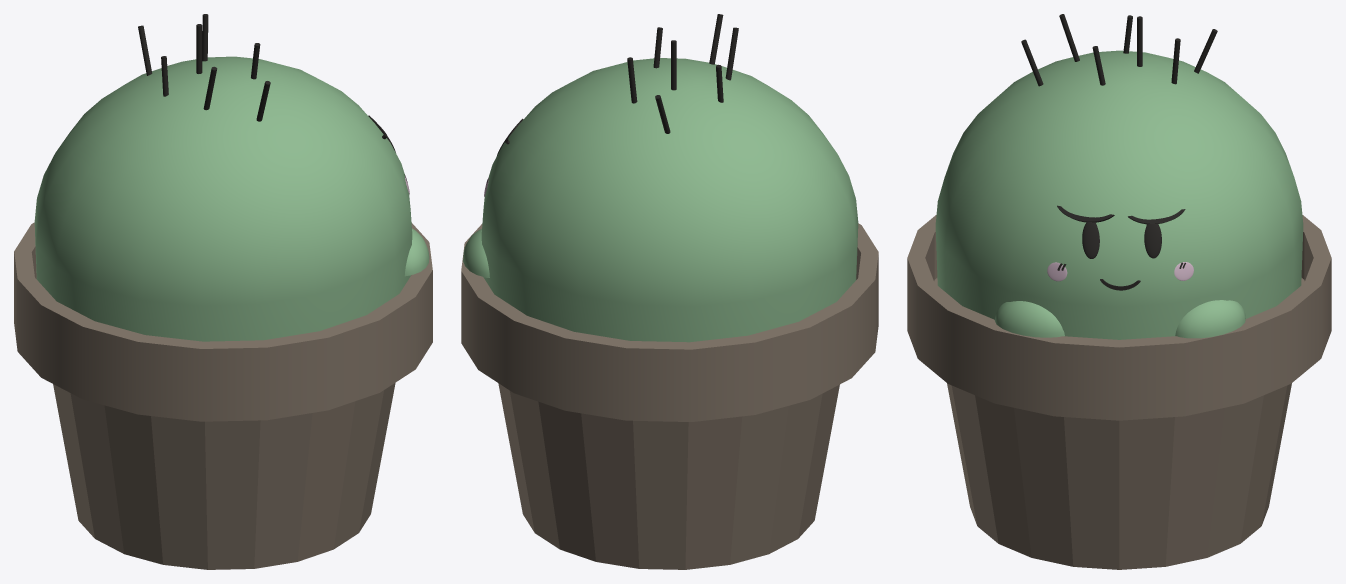
Rendered from gutitubo.fbx.
3 views of the same model, side by side, from view 1: azimuth 30°, elevation 25°; view 2: azimuth 150°, elevation 25°; view 3: azimuth 270°, elevation 25° (orthographic).
Parts seen in each view (by area): view 1: gutitubo_body, gutitubo_planter, gutitubo_hair; view 2: gutitubo_body, gutitubo_planter, gutitubo_hair; view 3: gutitubo_body, gutitubo_planter, gutitubo_hair, gutitubo_face, gutitubo_cheeks.
Part boxes in pixels (left/top/right/bottom): gutitubo_body: left=34, top=56, right=429, bottom=341; gutitubo_planter: left=14, top=222, right=432, bottom=569; gutitubo_hair: left=138, top=14, right=270, bottom=121; gutitubo_body: left=463, top=58, right=858, bottom=342; gutitubo_planter: left=461, top=223, right=878, bottom=569; gutitubo_hair: left=627, top=14, right=738, bottom=133; gutitubo_body: left=935, top=50, right=1303, bottom=339; gutitubo_planter: left=907, top=215, right=1331, bottom=569; gutitubo_hair: left=1021, top=14, right=1217, bottom=86; gutitubo_face: left=1057, top=205, right=1185, bottom=290; gutitubo_cheeks: left=1047, top=262, right=1193, bottom=281.
Bounding box in the file's own units: 12.38 × 15.53 × 12.38.
